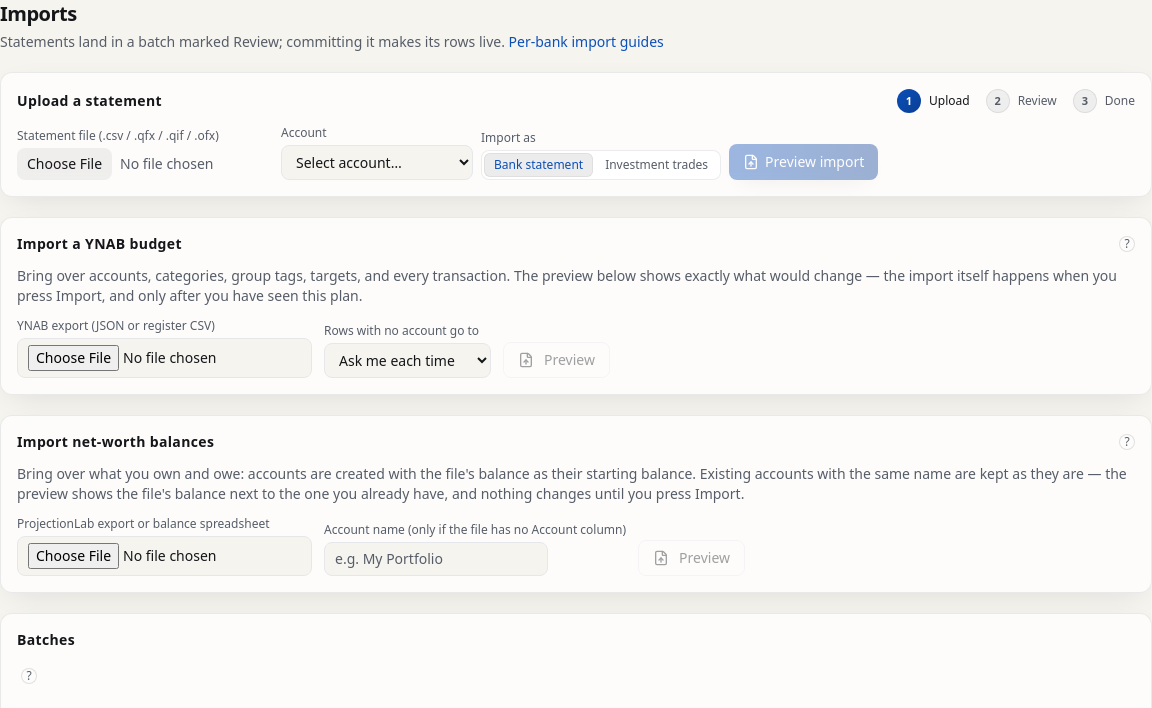
Test: M112 — wizard auto-launch keys off envelope `code`, not `detail` › runPreview.onError: 422 with detail WITHOUT the token but code WITH it opens the wizard (prod case)
The width and height of the screenshot is (1152, 708).
Earlier steps of the test are not shown.
Step 1. Select "Everyday chequing (CAD)" in the dropdown labelled "Account" → (377, 162), box [281,145,473,180]
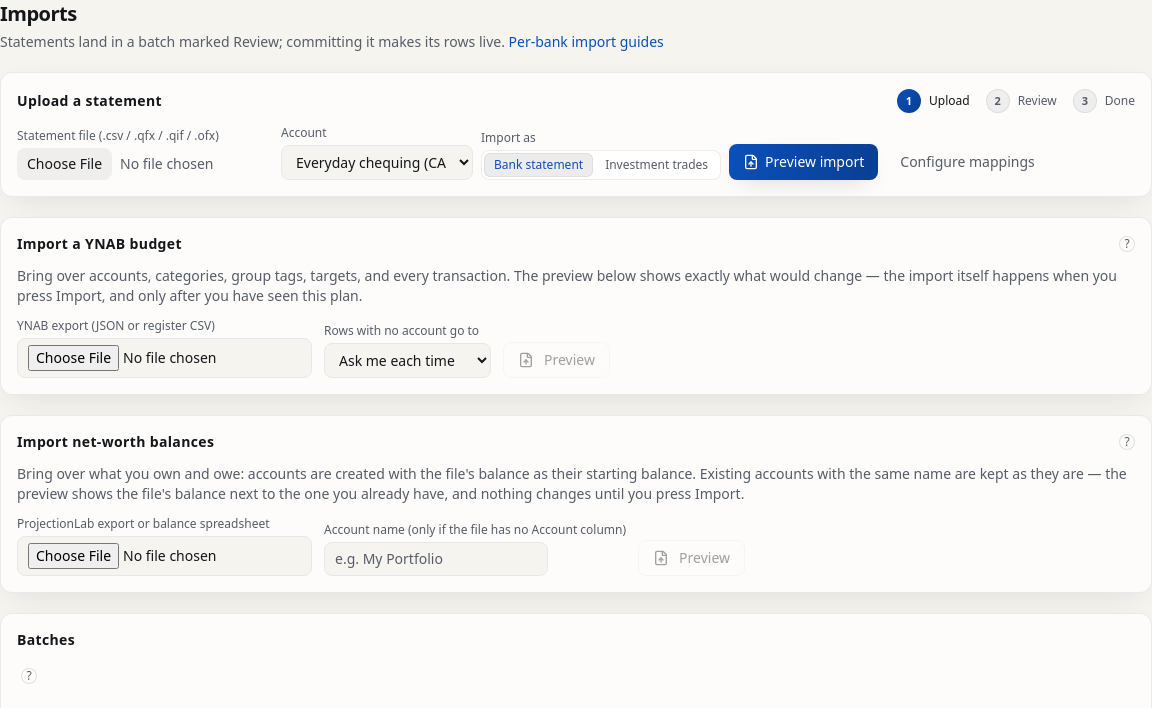
Step 2. Click the button "Preview import" → (804, 162), box [729,144,878,180]
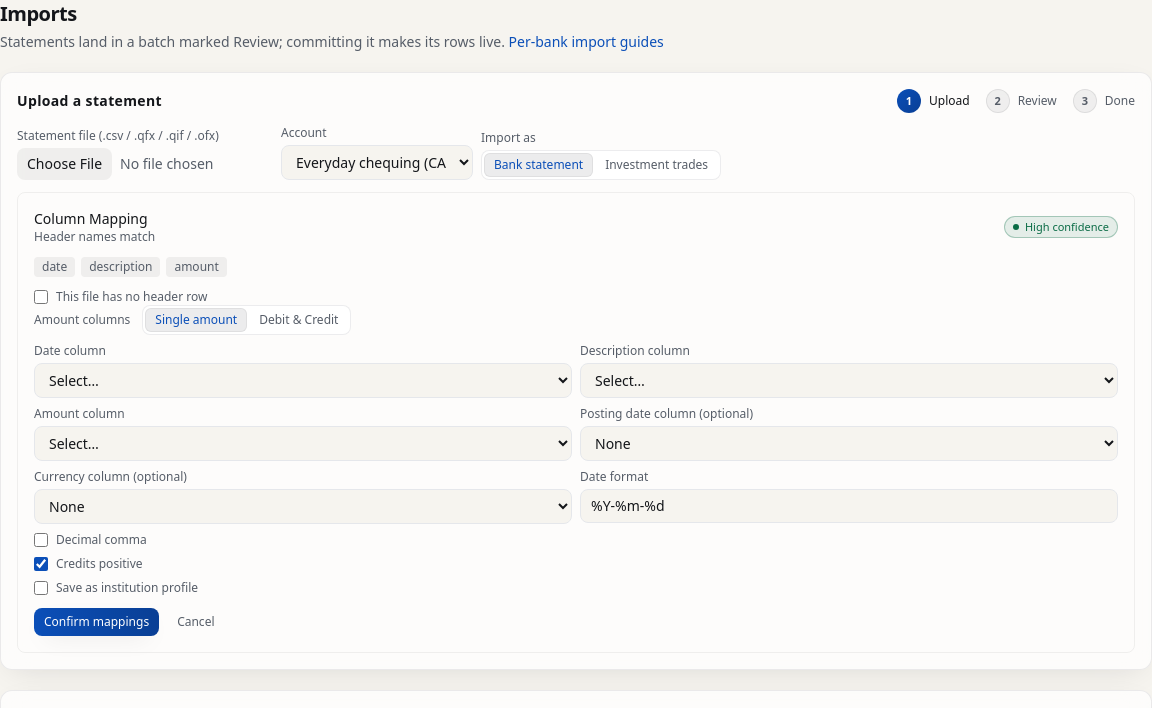
Result: the text "Column Mapping" is shown at [34,209,155,229]
